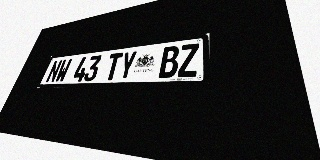3: (83, 55, 102, 81)
4: (72, 56, 91, 82)
B: (158, 45, 180, 78)
N: (45, 60, 63, 83)
T: (103, 52, 123, 81)
W: (54, 59, 72, 83)
Y: (117, 51, 138, 80)
Z: (177, 43, 199, 77)
